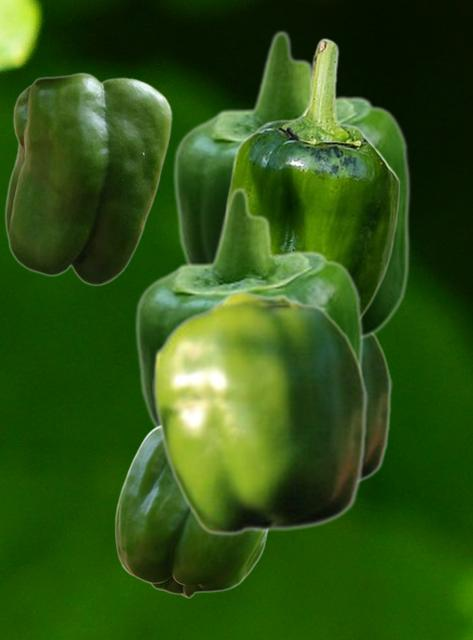bell_pepper: (172, 29, 410, 339), (134, 186, 363, 427), (152, 289, 367, 535), (225, 37, 399, 316), (4, 72, 172, 285), (114, 426, 267, 597), (362, 335, 391, 482)
